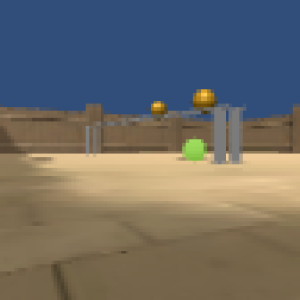goodGoal: (181, 136, 206, 161)
goodGoalMulti: (190, 86, 217, 114), (149, 99, 168, 118)
wall: (212, 108, 228, 166), (229, 108, 242, 165), (92, 124, 100, 156), (85, 123, 92, 155)
